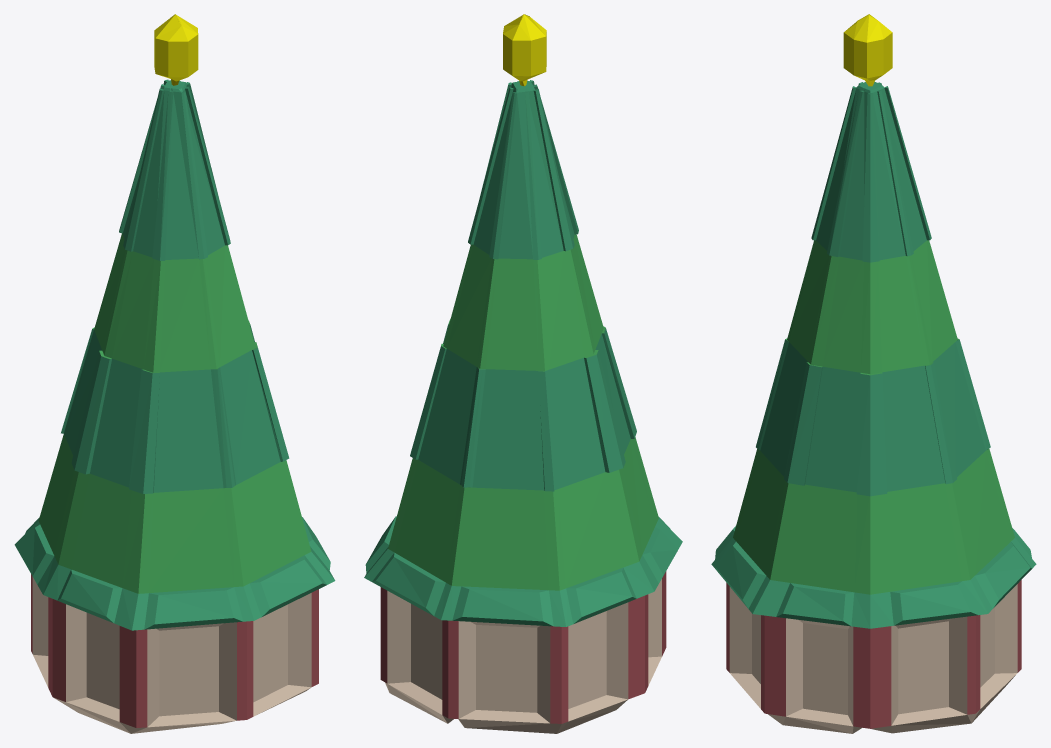
The model's file is russie_tour5.fbx.
3 views of the same model, side by side, from view 1: azimuth 30°, elevation 25°; view 2: azimuth 150°, elevation 25°; view 3: azimuth 270°, elevation 25° (orthographic).
Parts seen in each view (by area): view 1: pCube2; view 2: pCube2; view 3: pCube2.
Part boxes in pixels (left/top/right/bottom): pCube2: left=14, top=14, right=335, bottom=733; pCube2: left=364, top=14, right=682, bottom=733; pCube2: left=711, top=14, right=1036, bottom=733.
Bounding box in the file's own units: 2.73 × 6.6 × 2.91.
